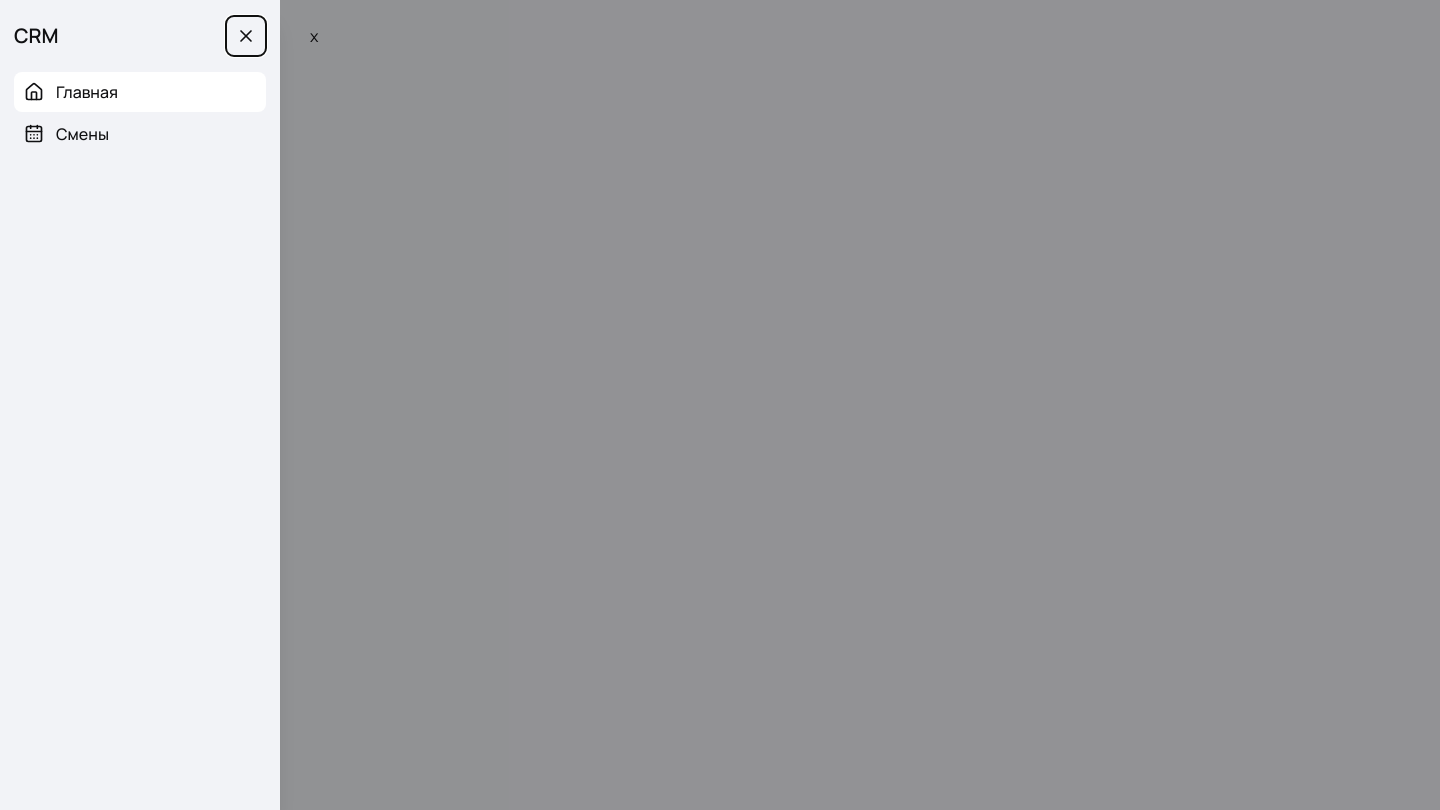
AppShell: выдвижное меню (sm) › закрывается при переходе по ссылке: не остаётся поверх новой страницы
The width and height of the screenshot is (1440, 810).
Earlier steps of the test are not shown.
Click the link "Смены".
click(66, 134)  # box [24,123,109,145]
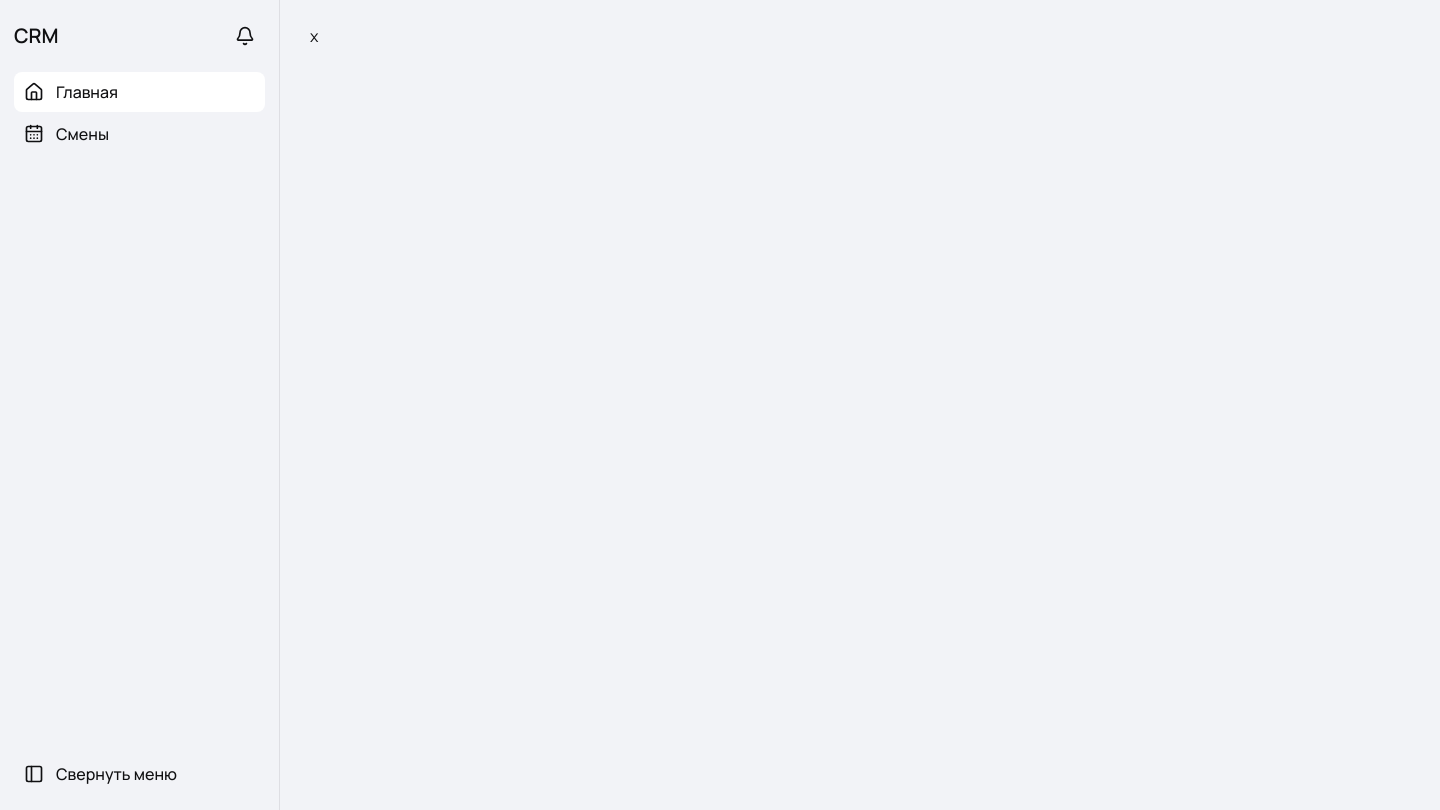
expect the dialog is gone: met
